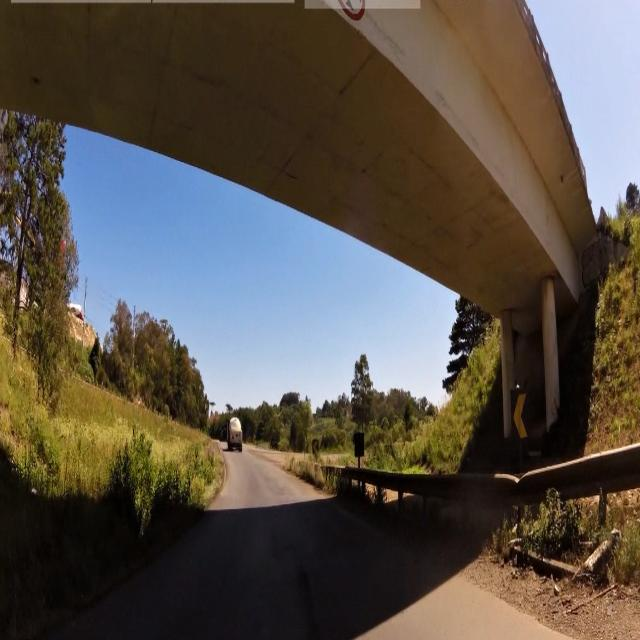Del: (510, 387, 531, 443)
